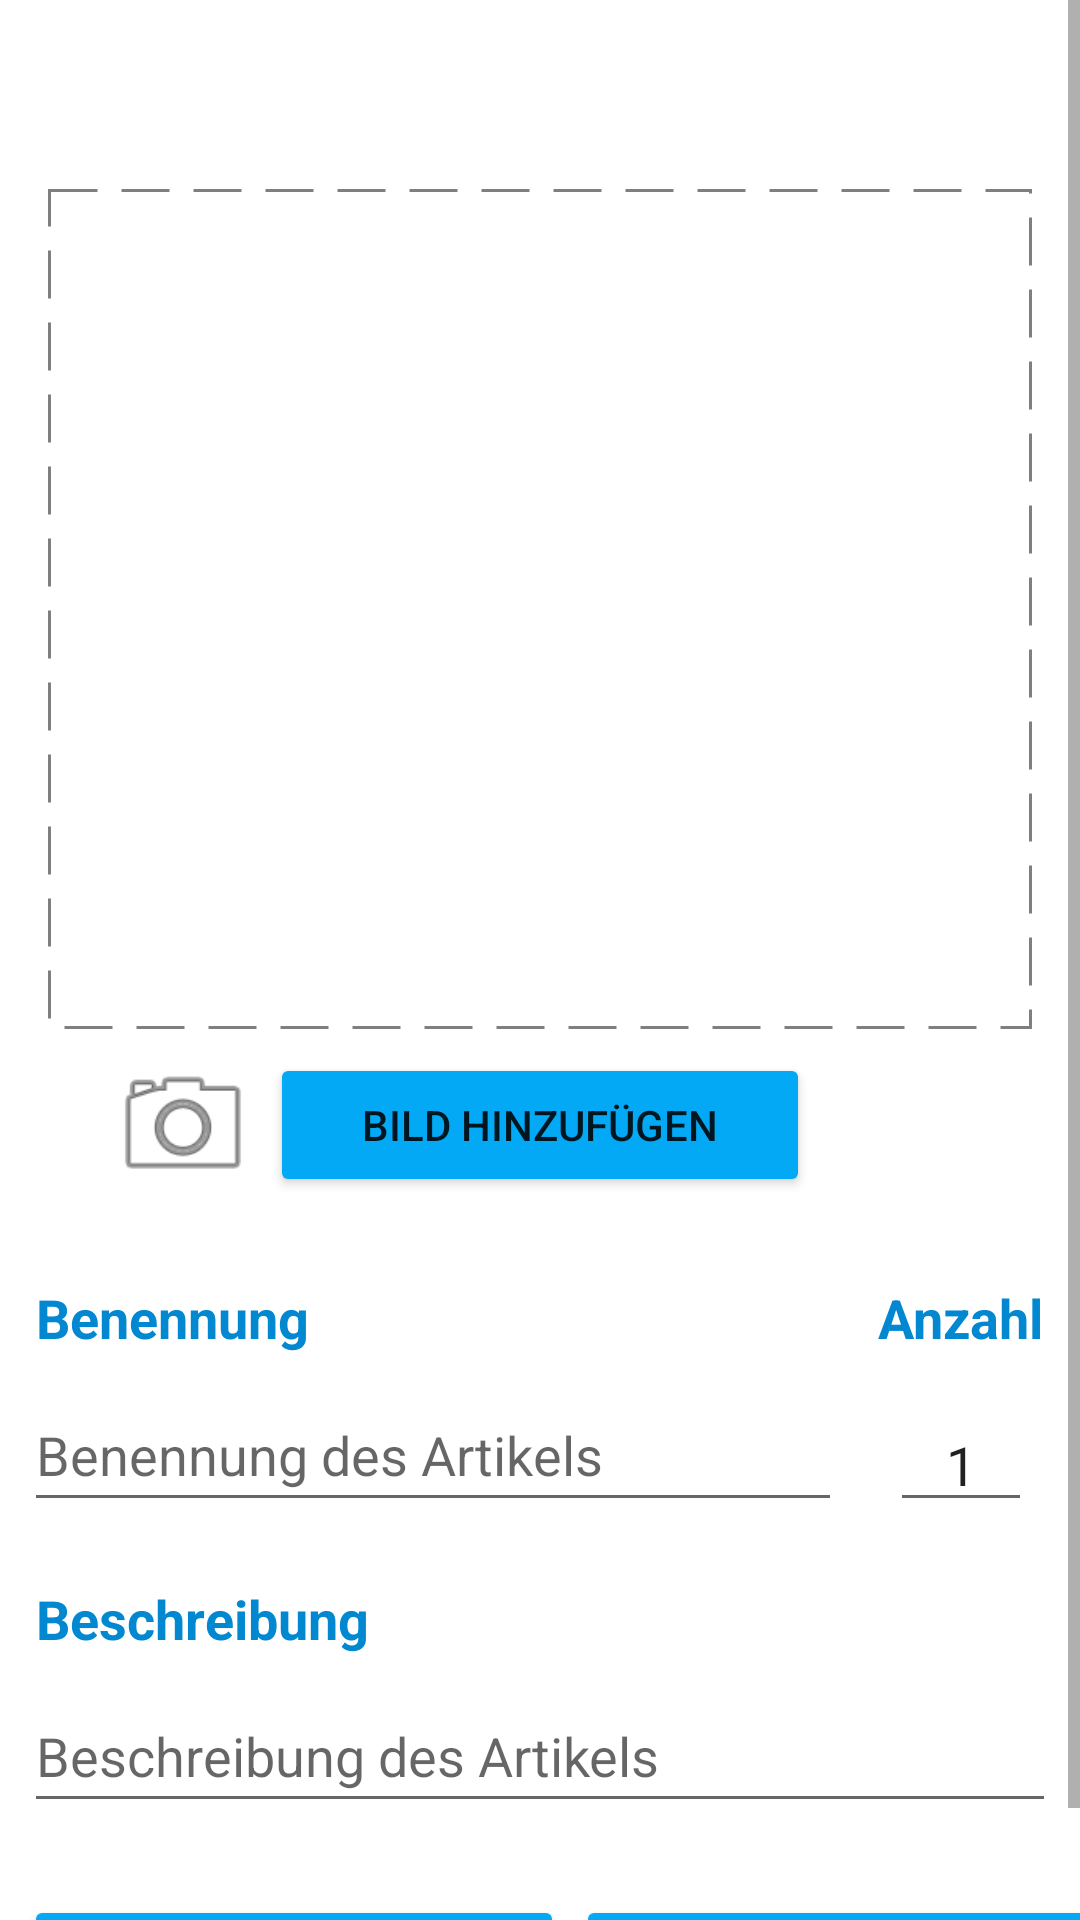

Where icons sit on this 1080×1920 app screen, as (x1, y1, x2, y2):
camera: (125, 1076, 241, 1169)
